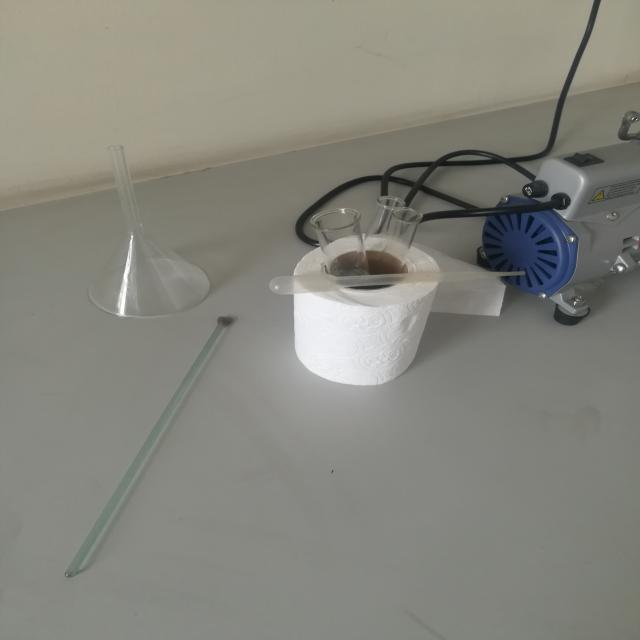Funnel: (76, 134, 227, 326)
Glass_Rod: (28, 312, 282, 616)
Pipette: (265, 240, 538, 308)
